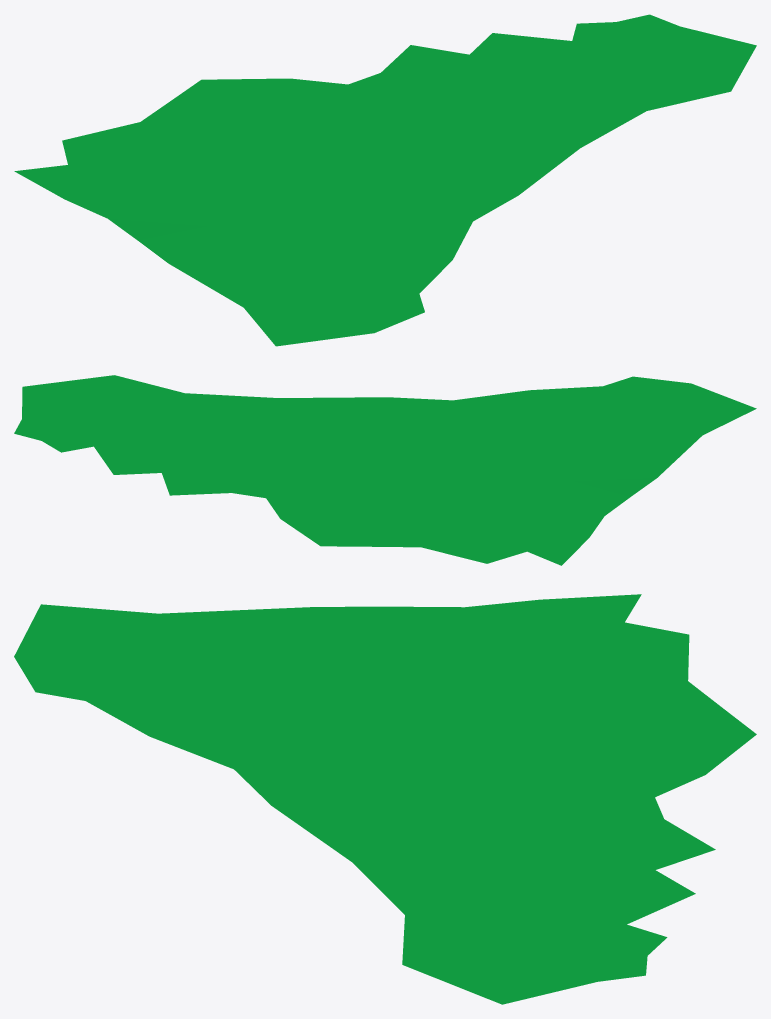
File: Rand03_Plane.fbx
3 views of the same model, one above another, from view 1: azimuth 30°, elevation 25°; view 2: azimuth 150°, elevation 25°; view 3: azimuth 270°, elevation 25° (orthographic). The views are drawn at different scales.
Visible parts, largest first — view 1: Rand03.001; view 2: Rand03.001; view 3: Rand03.001.
Part boxes in pixels (bbox=[...]): Rand03.001: bbox=[14, 14, 756, 346]; Rand03.001: bbox=[14, 375, 756, 565]; Rand03.001: bbox=[14, 594, 756, 1004].
Bounding box in the file's own units: 2749 × 1.25 × 2103.
